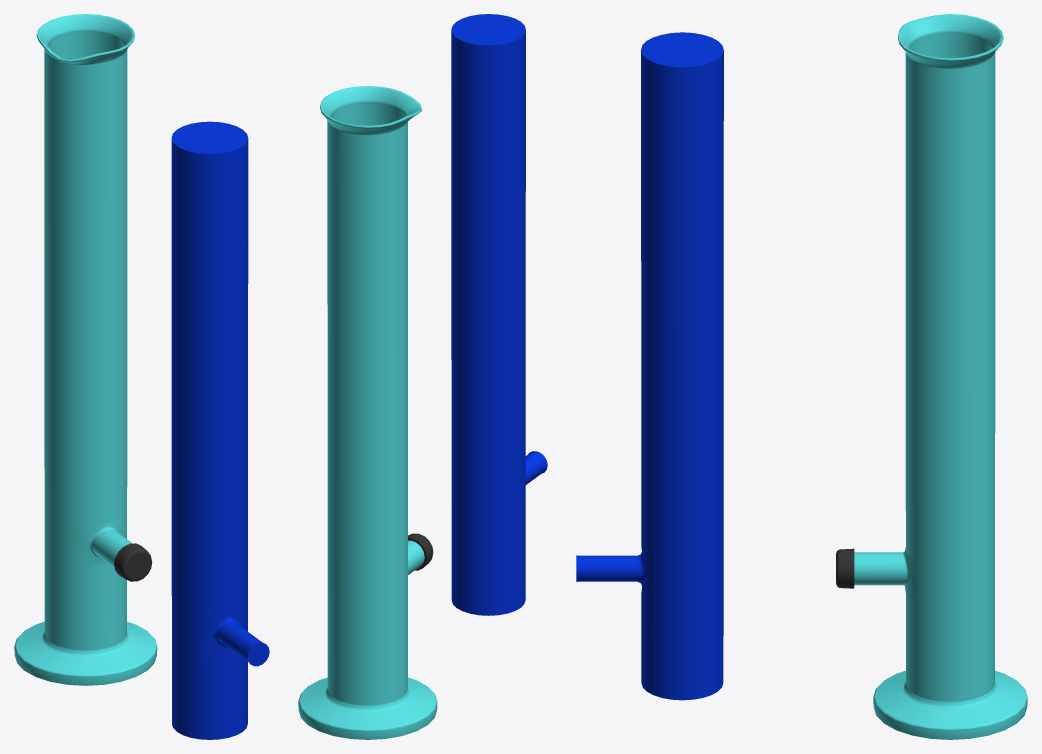
Rendered from Chemical_18.02 (2).fbx.
3 views of the same model, side by side, from view 1: azimuth 30°, elevation 25°; view 2: azimuth 150°, elevation 25°; view 3: azimuth 270°, elevation 25° (orthographic). The views are drawn at different scales.
Parts seen in each view (by area): view 1: transparent_bottles_Detached04.001, transparent_bottles_Detached04.003, transparent_bottles_Detached04.002; view 2: transparent_bottles_Detached04.001, transparent_bottles_Detached04.003; view 3: transparent_bottles_Detached04.001, transparent_bottles_Detached04.003, transparent_bottles_Detached04.002.
Part boxes in pixels (box(x1,y1,x2,y2)): transparent_bottles_Detached04.001: box(14, 14, 157, 685); transparent_bottles_Detached04.003: box(171, 121, 269, 739); transparent_bottles_Detached04.002: box(114, 543, 152, 581); transparent_bottles_Detached04.001: box(298, 86, 437, 739); transparent_bottles_Detached04.003: box(451, 14, 547, 615); transparent_bottles_Detached04.001: box(854, 14, 1027, 739); transparent_bottles_Detached04.003: box(576, 32, 723, 700); transparent_bottles_Detached04.002: box(836, 548, 854, 588).
Bounding box in the file's own units: 4.4 × 21.12 × 12.86.
